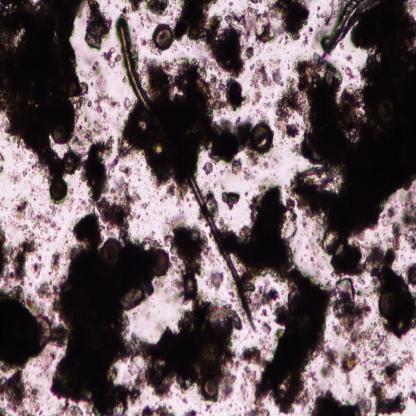Background material: (276, 0, 416, 231), (213, 182, 331, 414), (47, 239, 156, 416), (0, 0, 89, 173), (0, 226, 68, 415), (121, 66, 218, 196), (137, 300, 243, 403), (84, 132, 134, 240), (361, 245, 416, 335), (330, 275, 386, 360), (163, 221, 209, 301), (206, 5, 257, 72), (206, 116, 260, 173), (172, 0, 220, 46), (7, 194, 57, 237), (324, 233, 370, 279), (308, 385, 372, 415), (274, 80, 300, 151), (208, 73, 252, 112), (250, 57, 283, 109), (389, 188, 416, 248), (269, 0, 309, 40), (250, 283, 287, 324), (81, 0, 111, 49), (370, 378, 407, 416), (324, 340, 360, 378), (376, 351, 414, 384), (237, 340, 269, 372), (74, 210, 102, 246), (12, 154, 40, 184), (256, 9, 275, 45), (219, 188, 244, 212), (140, 400, 174, 415), (95, 91, 119, 112), (205, 269, 226, 292), (402, 256, 416, 287), (206, 191, 222, 218), (102, 48, 122, 69), (145, 1, 170, 12), (128, 0, 146, 15), (202, 162, 214, 177), (348, 63, 357, 82)
Cellulose filter fibre: (326, 0, 374, 56)
Diatom: (296, 167, 336, 187), (252, 123, 274, 153), (52, 120, 76, 146), (206, 303, 232, 327), (152, 23, 174, 50), (150, 247, 170, 276), (50, 179, 69, 204), (203, 378, 221, 402)
Natural material: (117, 21, 257, 330)
